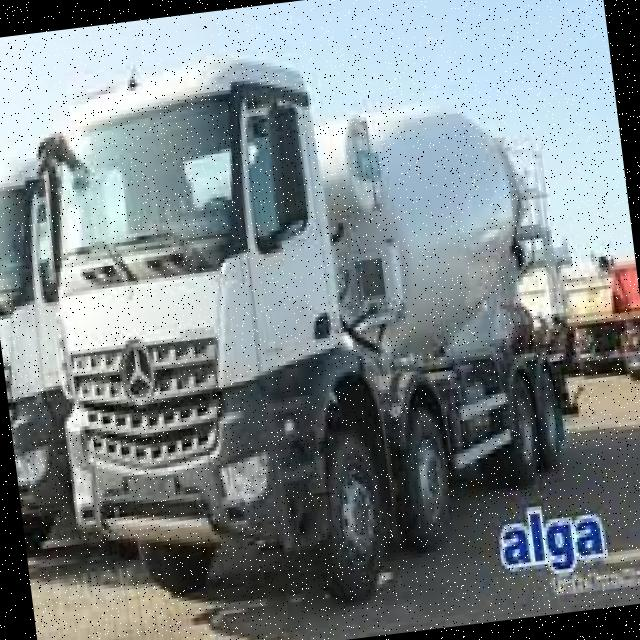Mixer Truck: (18, 13, 600, 638), (0, 140, 136, 568)
